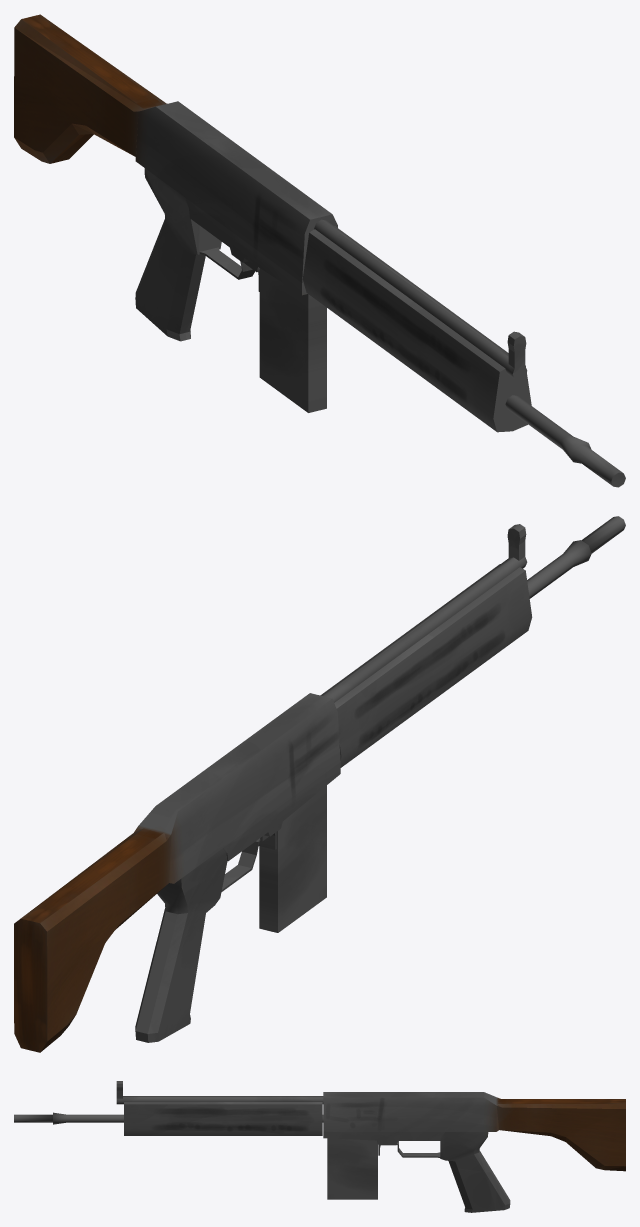
Rendered from Type 64 DMR.FBX.
3 renders of one model, top to bottom at view 1: azimuth 30°, elevation 25°; view 2: azimuth 150°, elevation 25°; view 3: azimuth 270°, elevation 25°, orthographic. The views are drawn at different scales.
Visible parts, largest first — view 1: Box001; view 2: Box001; view 3: Box001.
Boxes of the visible parts, x1=… form: Box001: x1=14, y1=14, x2=625, y2=487; Box001: x1=14, y1=516, x2=625, y2=1052; Box001: x1=14, y1=1081, x2=625, y2=1212.
Size of the model in its own units: 5.16 by 31.49 by 135.
Materials: 1 (1 with a texture image).
